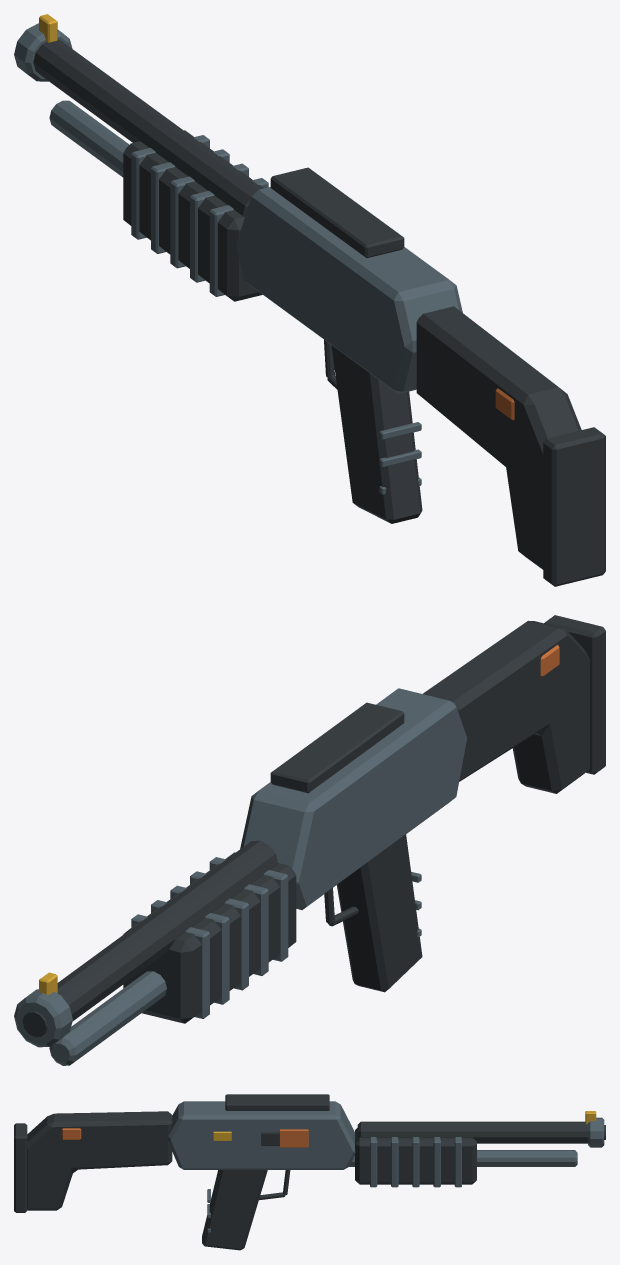
File: weapon_shotgun_model.glb
3 views of the same model, one above another, from view 1: azimuth 30°, elevation 25°; view 2: azimuth 150°, elevation 25°; view 3: azimuth 270°, elevation 25° (orthographic). The views are drawn at different scales.
Visible parts, largest first — view 1: BH_Shotgun_01_RenderMesh; view 2: BH_Shotgun_01_RenderMesh; view 3: BH_Shotgun_01_RenderMesh.
Boxes of the visible parts, <box> form: BH_Shotgun_01_RenderMesh: <box>14,14,605,586</box>; BH_Shotgun_01_RenderMesh: <box>14,615,605,1065</box>; BH_Shotgun_01_RenderMesh: <box>14,1094,605,1250</box>.
Size of the model in its own units: 0.088 by 0.3078 by 1.12.
